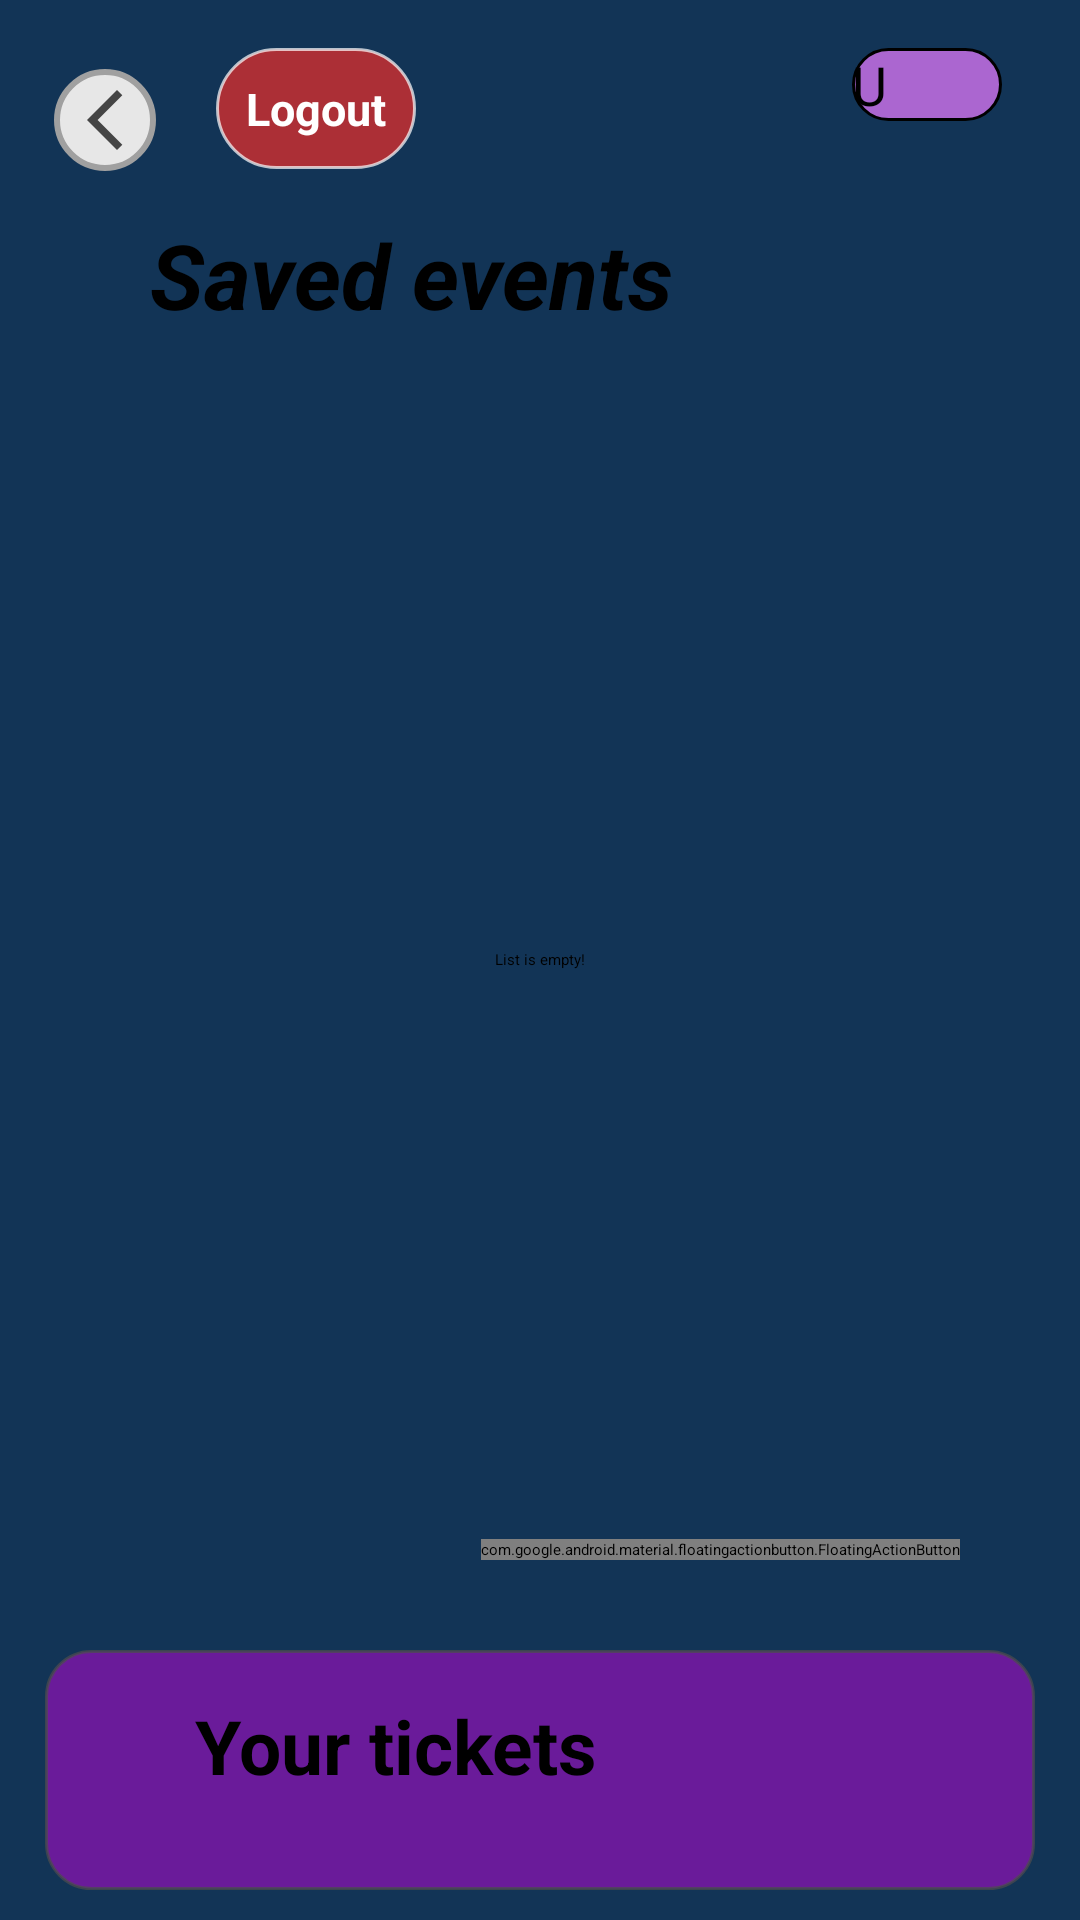

Where to tap for icons on this 1080px x 1920px app screen, as (x=x, y=y):
Back: (x=105, y=120)
